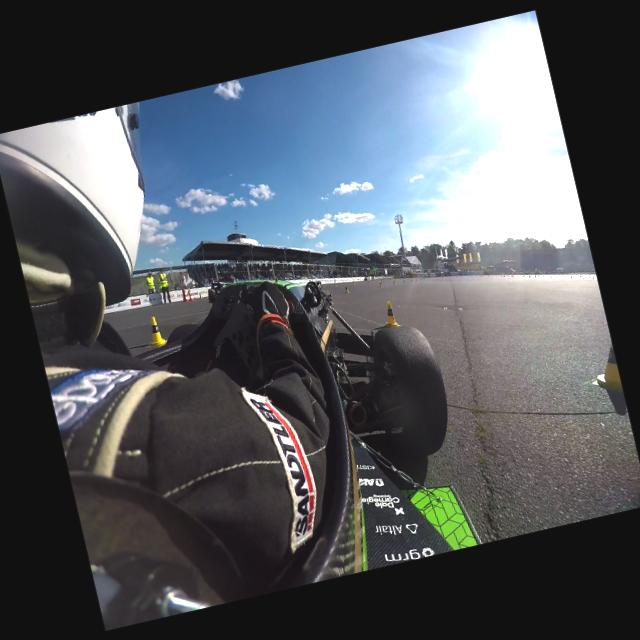large_orange_cone: (180, 286, 188, 302), (186, 285, 193, 301)
yellow_cone: (584, 322, 622, 394), (143, 314, 166, 346), (382, 299, 398, 326), (343, 284, 349, 294), (198, 290, 202, 298), (332, 280, 337, 286), (378, 281, 382, 287), (402, 278, 405, 284), (392, 280, 396, 284), (352, 280, 356, 284), (410, 278, 413, 282), (415, 278, 418, 282), (380, 278, 382, 282)
